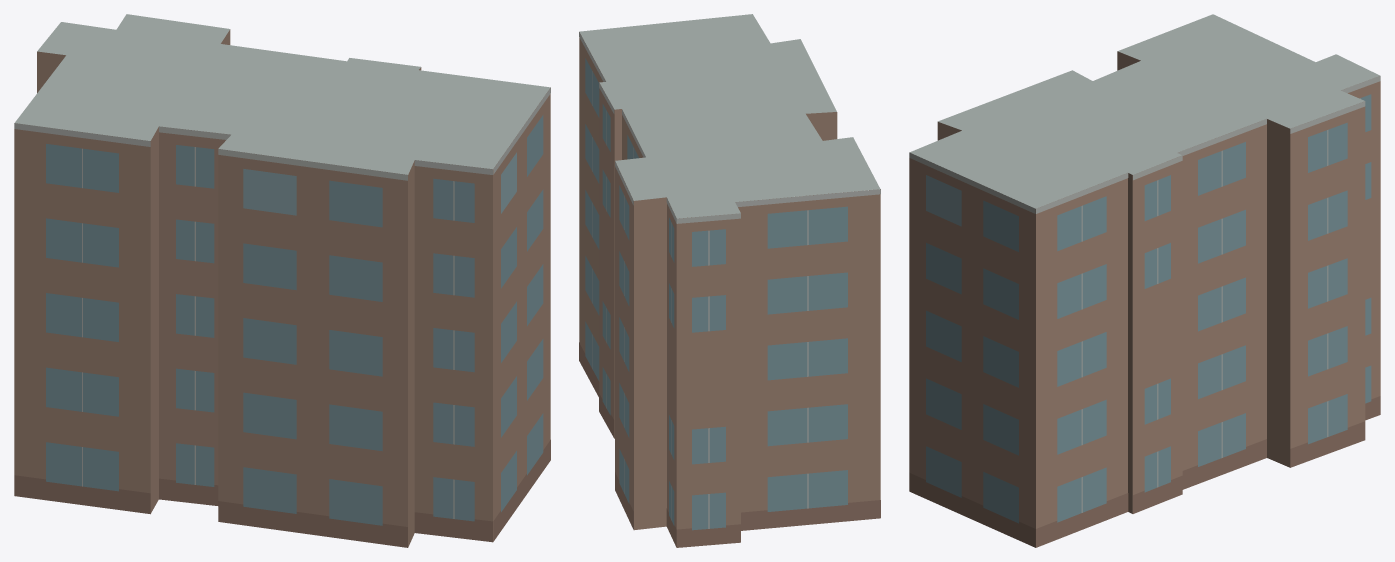
Rendered from survey-upis-32985845.glb.
3 views of the same model, side by side, from view 1: azimuth 30°, elevation 25°; view 2: azimuth 150°, elevation 25°; view 3: azimuth 270°, elevation 25° (orthographic). The views are drawn at different scales.
Visible parts, largest first — view 1: survey-upis-32985845.tmp; view 2: survey-upis-32985845.tmp; view 3: survey-upis-32985845.tmp.
Boxes of the visible parts, box(x1,y1,x2,y2) form: survey-upis-32985845.tmp: box(14, 14, 550, 547); survey-upis-32985845.tmp: box(579, 14, 880, 547); survey-upis-32985845.tmp: box(909, 14, 1380, 547).
Size of the model in its own units: 18.79 by 15.25 by 19.21.
